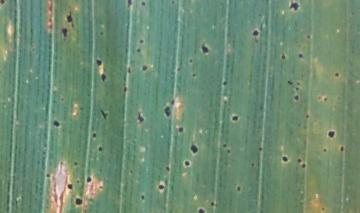tarspot: (164, 104, 172, 117), (290, 1, 300, 11), (100, 109, 109, 120), (66, 10, 73, 23), (190, 143, 198, 154), (136, 112, 144, 122), (61, 28, 68, 39), (75, 197, 83, 206), (202, 44, 209, 54), (177, 126, 184, 134), (252, 28, 259, 36), (328, 130, 335, 138), (127, 65, 132, 75), (53, 120, 60, 127), (282, 155, 289, 162), (96, 59, 102, 67), (127, 1, 133, 9), (122, 85, 128, 93), (232, 115, 240, 121), (67, 183, 73, 191), (101, 73, 106, 82), (165, 165, 171, 172), (175, 66, 181, 73), (183, 160, 190, 166), (334, 71, 340, 78), (158, 184, 165, 190), (142, 64, 147, 72), (197, 208, 205, 213), (87, 176, 92, 184), (98, 30, 104, 36), (306, 34, 312, 40), (294, 95, 300, 101), (75, 179, 81, 185), (78, 105, 84, 111), (98, 146, 103, 153), (286, 80, 293, 85), (340, 146, 345, 153), (210, 200, 215, 207), (171, 98, 175, 106), (73, 161, 79, 166), (92, 132, 97, 138), (70, 22, 75, 28), (141, 1, 146, 7), (136, 48, 142, 53), (192, 72, 197, 78), (59, 160, 64, 166), (189, 58, 194, 64), (222, 143, 228, 148), (257, 146, 263, 151), (299, 53, 304, 59), (305, 113, 310, 119), (317, 95, 323, 100), (140, 194, 145, 200), (98, 184, 104, 189), (45, 173, 51, 178), (237, 186, 241, 193), (139, 39, 144, 44), (60, 97, 65, 102), (297, 158, 302, 163), (281, 55, 286, 60), (295, 87, 300, 92), (302, 163, 306, 169), (259, 105, 263, 111), (1, 1, 6, 5), (171, 1, 176, 5), (227, 149, 231, 154), (223, 80, 227, 85), (324, 97, 328, 102), (321, 207, 325, 212), (130, 169, 133, 175), (251, 163, 255, 167), (297, 82, 301, 86), (323, 148, 327, 152)
